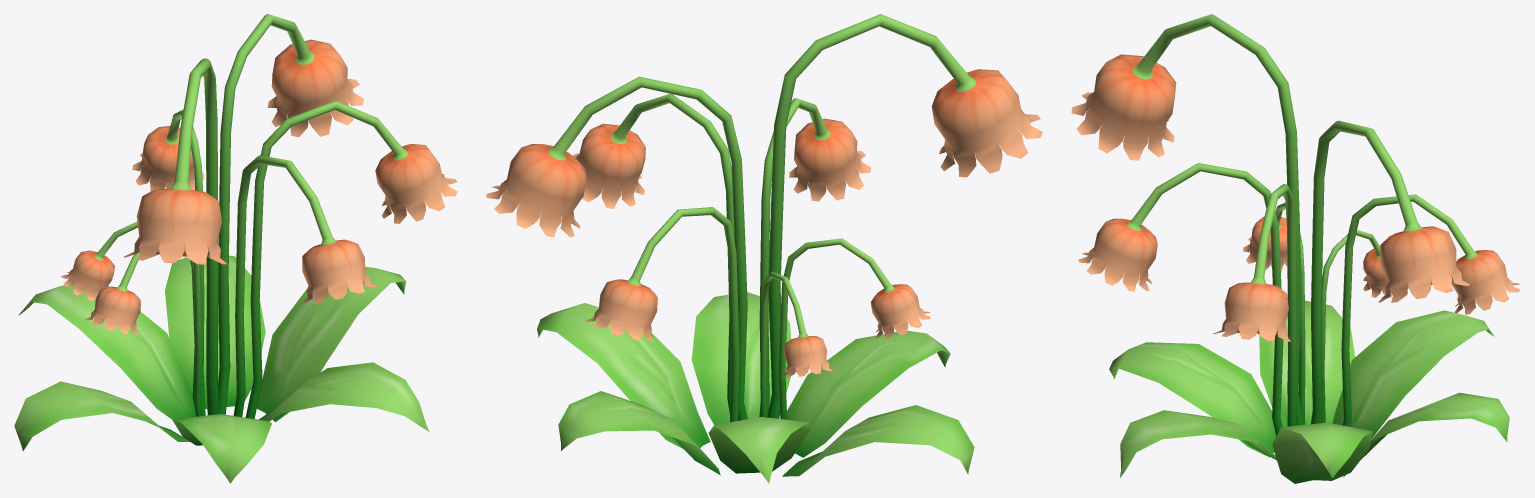
The model's file is flower2.glb.
3 renders of one model, left to right at view 1: azimuth 30°, elevation 25°; view 2: azimuth 150°, elevation 25°; view 3: azimuth 270°, elevation 25°, orthographic. The views are drawn at different scales.
Parts seen in each view (by area): view 1: Cylinder.014; view 2: Cylinder.014; view 3: Cylinder.014.
Boxes of the visible parts, left/top/right/bottom form: Cylinder.014: left=14, top=14, right=457, bottom=483; Cylinder.014: left=486, top=14, right=1042, bottom=483; Cylinder.014: left=1071, top=14, right=1519, bottom=483.
Bounding box in the file's own units: 1.29 × 1.23 × 1.22.
1 material, 1 textured.
